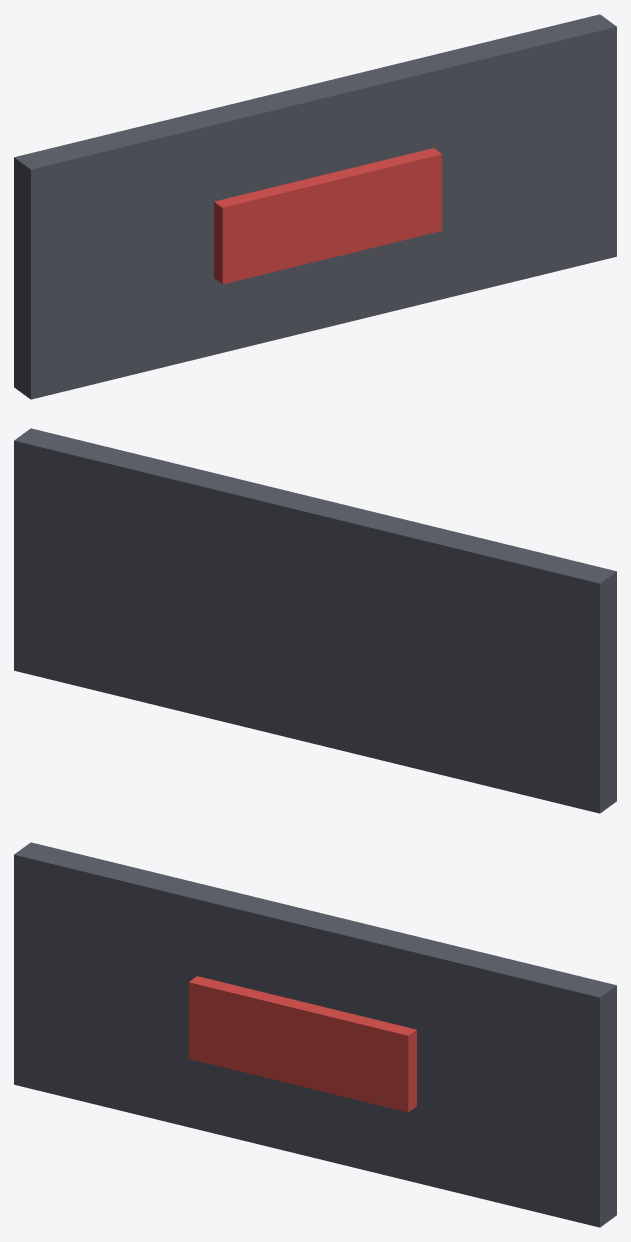
The model's file is 74_L98_Kelvin_Sense_Fault_Visual.glb.
The picture shows the model from 3 angles, top to bottom: view 1: azimuth 30°, elevation 25°; view 2: azimuth 150°, elevation 25°; view 3: azimuth 330°, elevation 25°; orthographic projection.
Parts seen in each view (by area): view 1: Service_Fault_Overlay, Fault_Indicator; view 2: Service_Fault_Overlay; view 3: Service_Fault_Overlay, Fault_Indicator.
Part boxes in pixels (<box>): Service_Fault_Overlay: <box>14,14,616,399</box>; Fault_Indicator: <box>214,148,442,284</box>; Service_Fault_Overlay: <box>14,428,616,813</box>; Service_Fault_Overlay: <box>14,842,616,1227</box>; Fault_Indicator: <box>188,976,416,1112</box>.
Size of the model in its own units: 0.008 by 0.003 by 0.0006.
